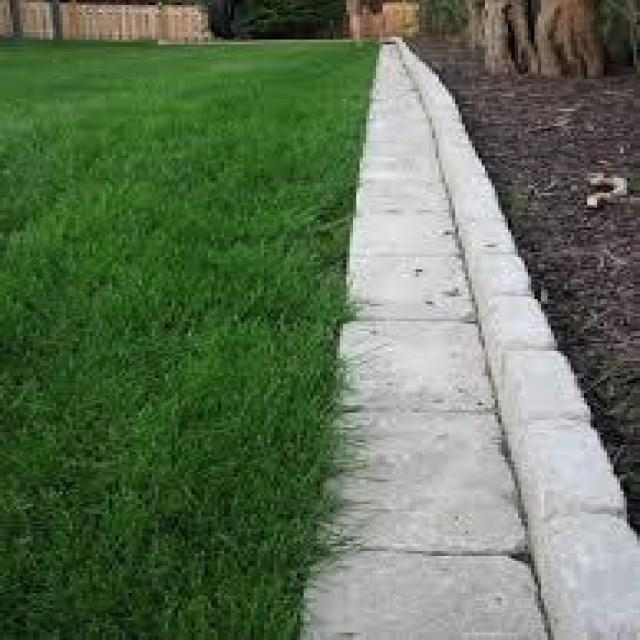curb: (460, 264, 638, 635), (402, 78, 522, 273), (390, 32, 437, 99)
